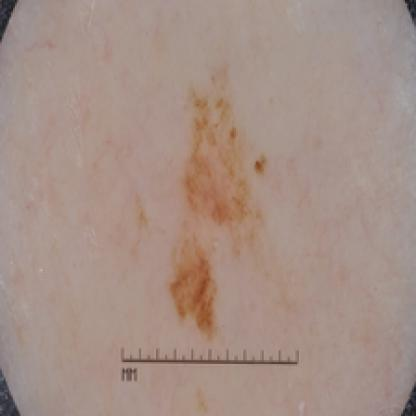malignant: (139, 46, 279, 330)
